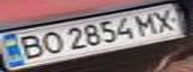2: (63, 24, 84, 52)
4: (112, 14, 139, 40)
5: (96, 17, 121, 44)
8: (81, 20, 103, 47)
B: (9, 32, 48, 61)
M: (130, 10, 163, 36)
O: (33, 29, 66, 56)
X: (145, 7, 184, 34)
